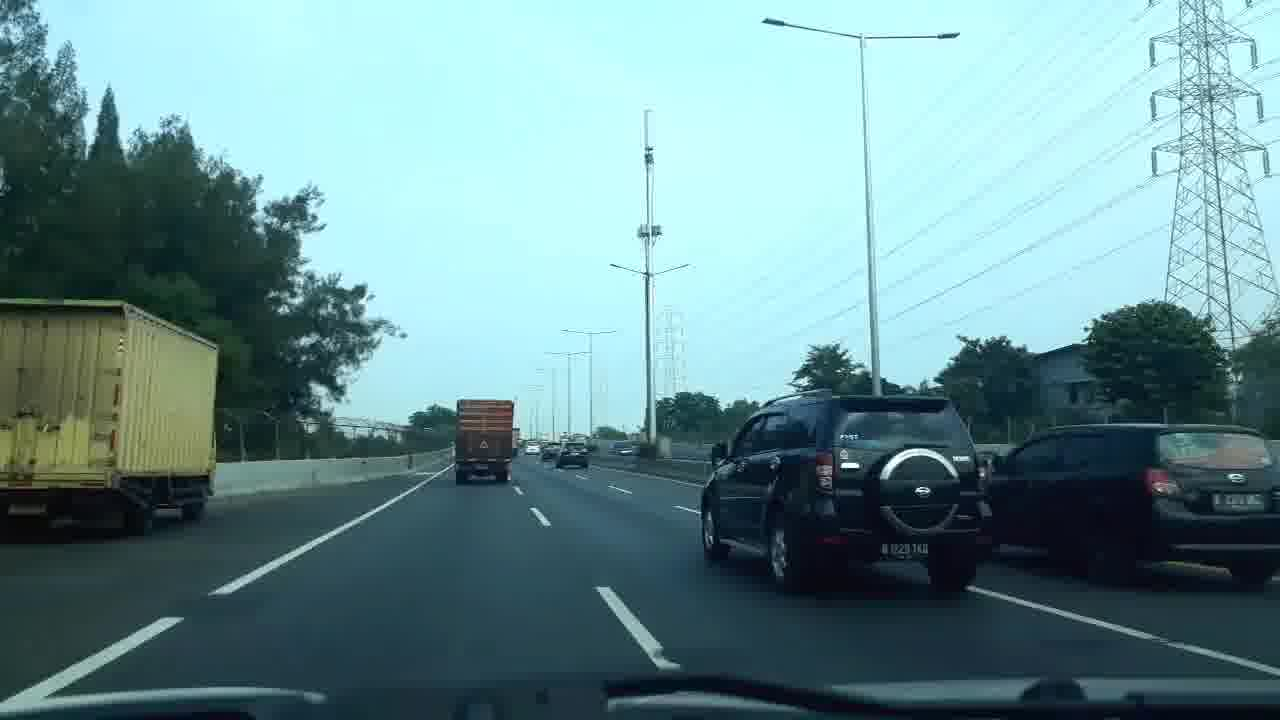plate_positive: (1211, 493, 1268, 515), (880, 542, 929, 562)
